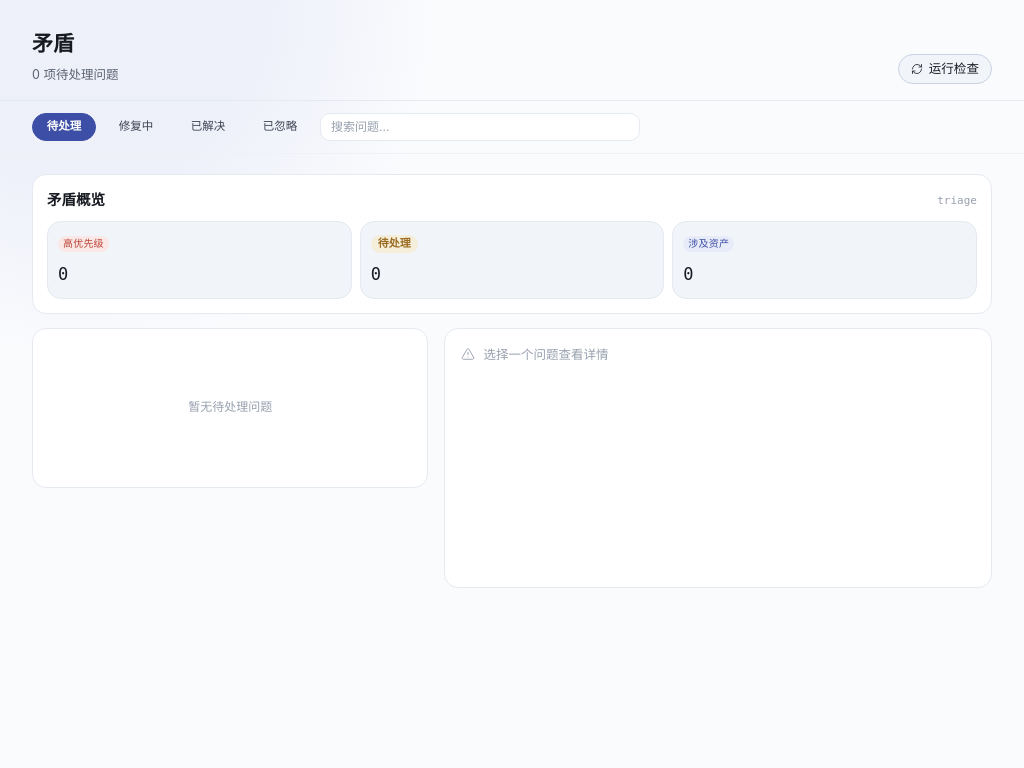
ConsistencyIssuesPage › surfaces action failures in the page
Click the button "运行检查" at [945, 69], box [898,54,992,84]
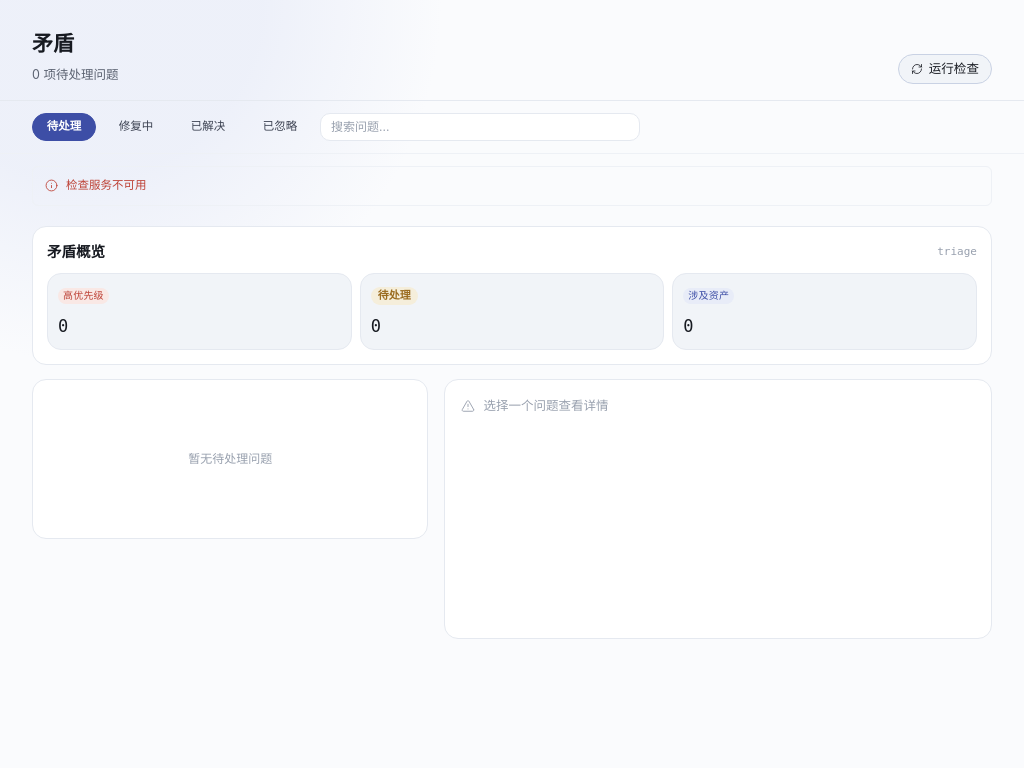
Check: the text "检查服务不可用" is shown, box [66,177,146,195]
